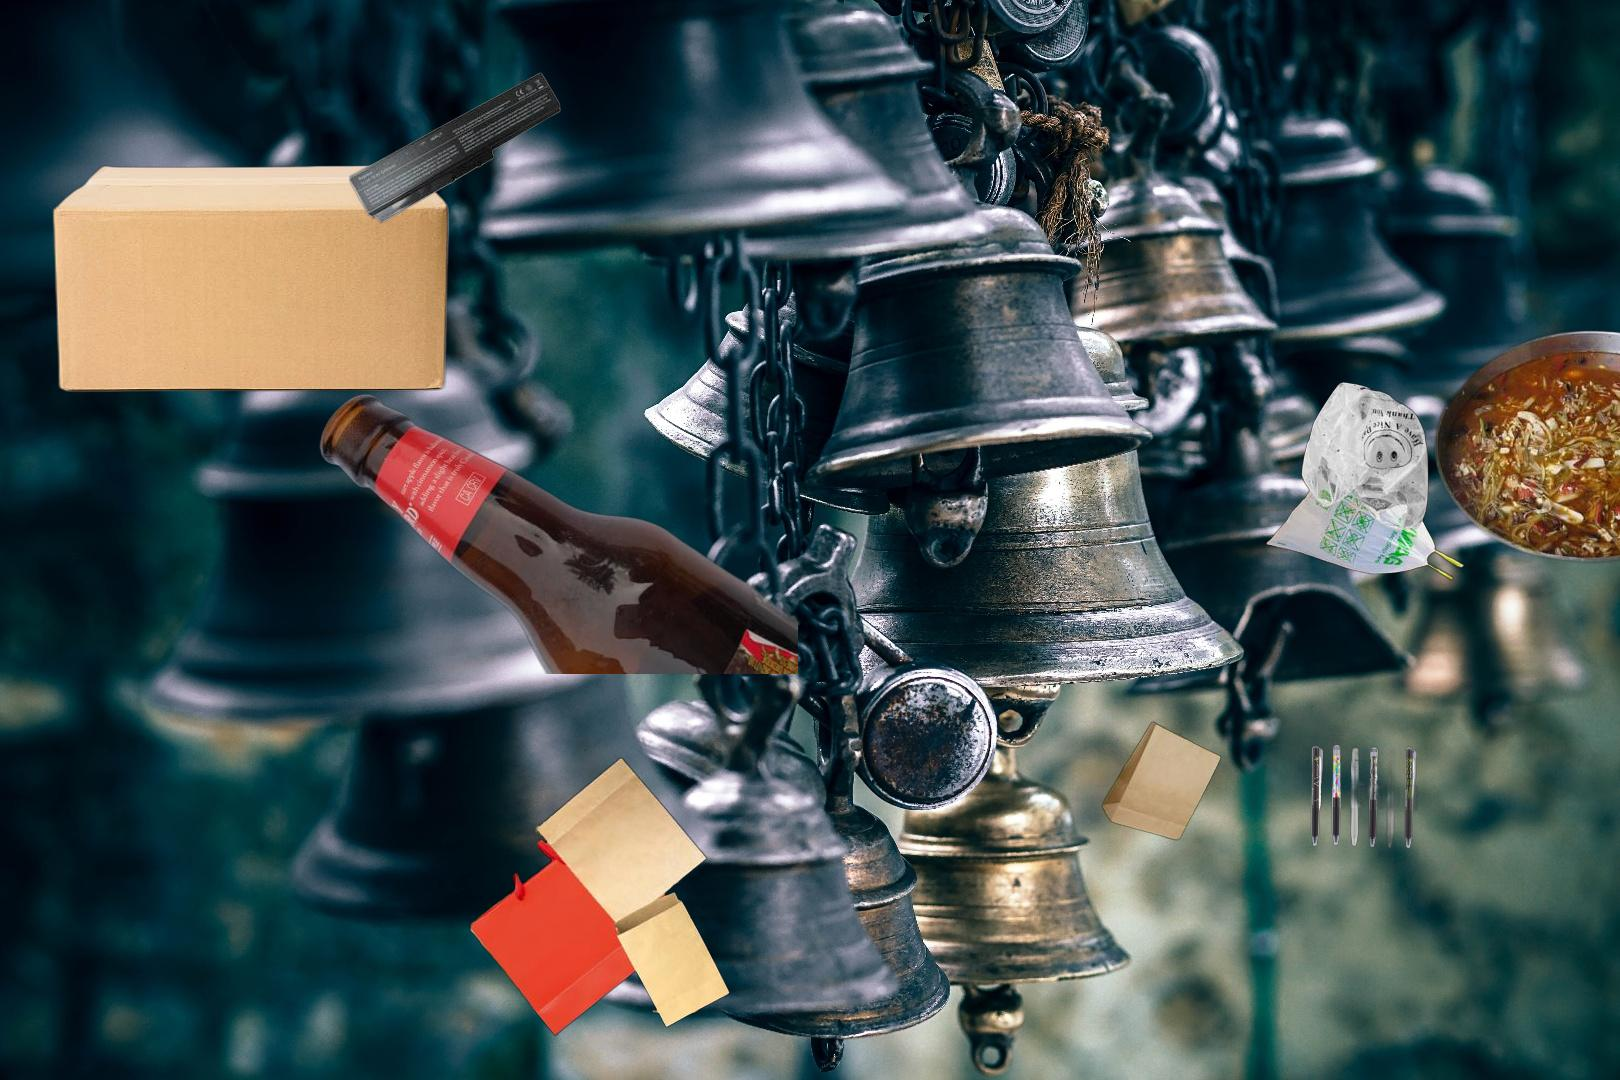battery: (347, 70, 564, 225)
biological: (1430, 325, 1620, 567)
glass: (316, 392, 798, 674)
paper-bag: (466, 755, 730, 1038), (1100, 717, 1223, 843)
penholder: (1308, 730, 1425, 859)
plastic-bag: (1263, 381, 1467, 583)
trashbox-cardboard: (47, 162, 454, 397)
